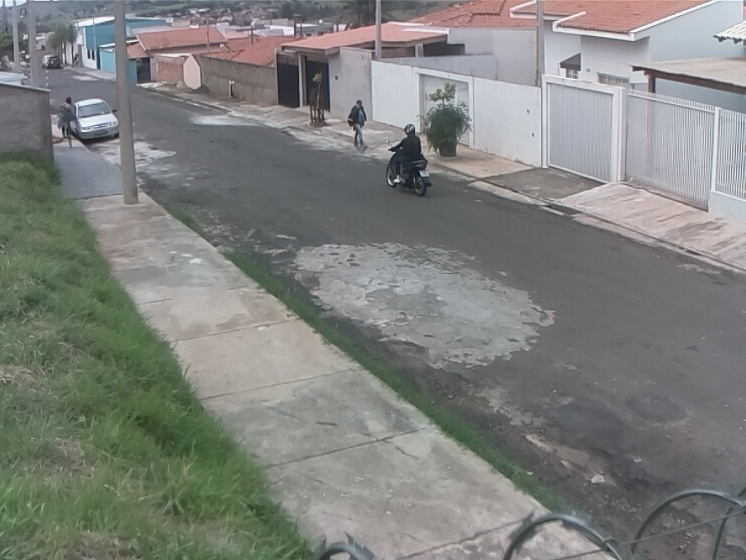person: (392, 122, 423, 186), (344, 99, 373, 156), (54, 94, 80, 141)
